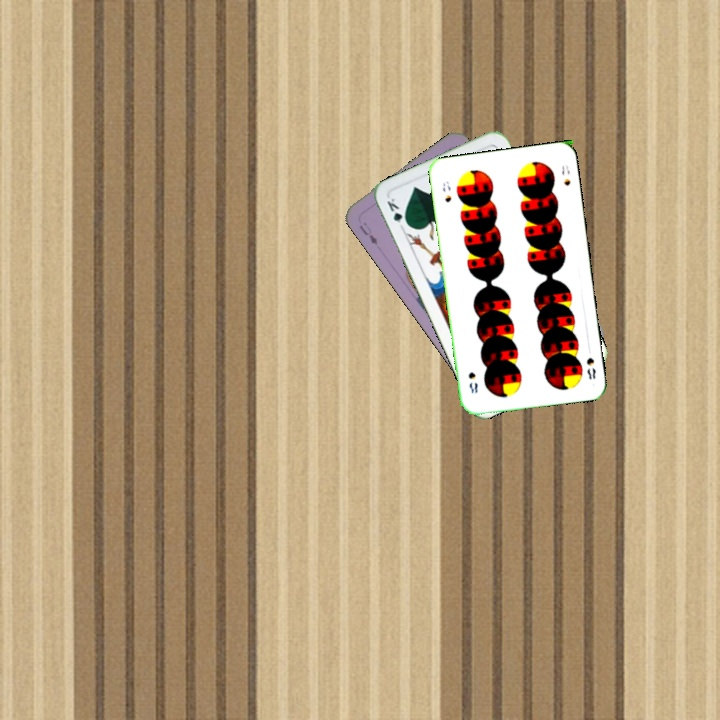EU: (355, 218, 380, 248)
GK: (383, 194, 411, 232)
S8: (582, 353, 598, 382), (438, 177, 454, 205)
